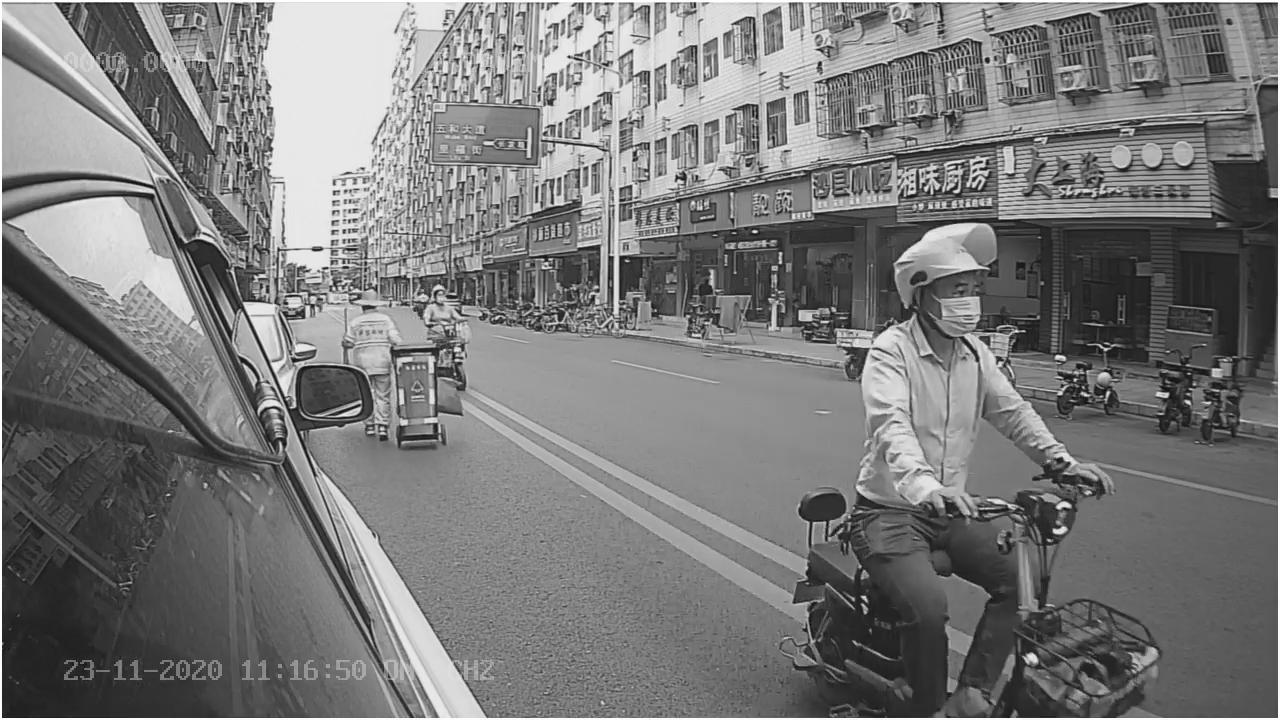person: (854, 213, 1121, 501)
